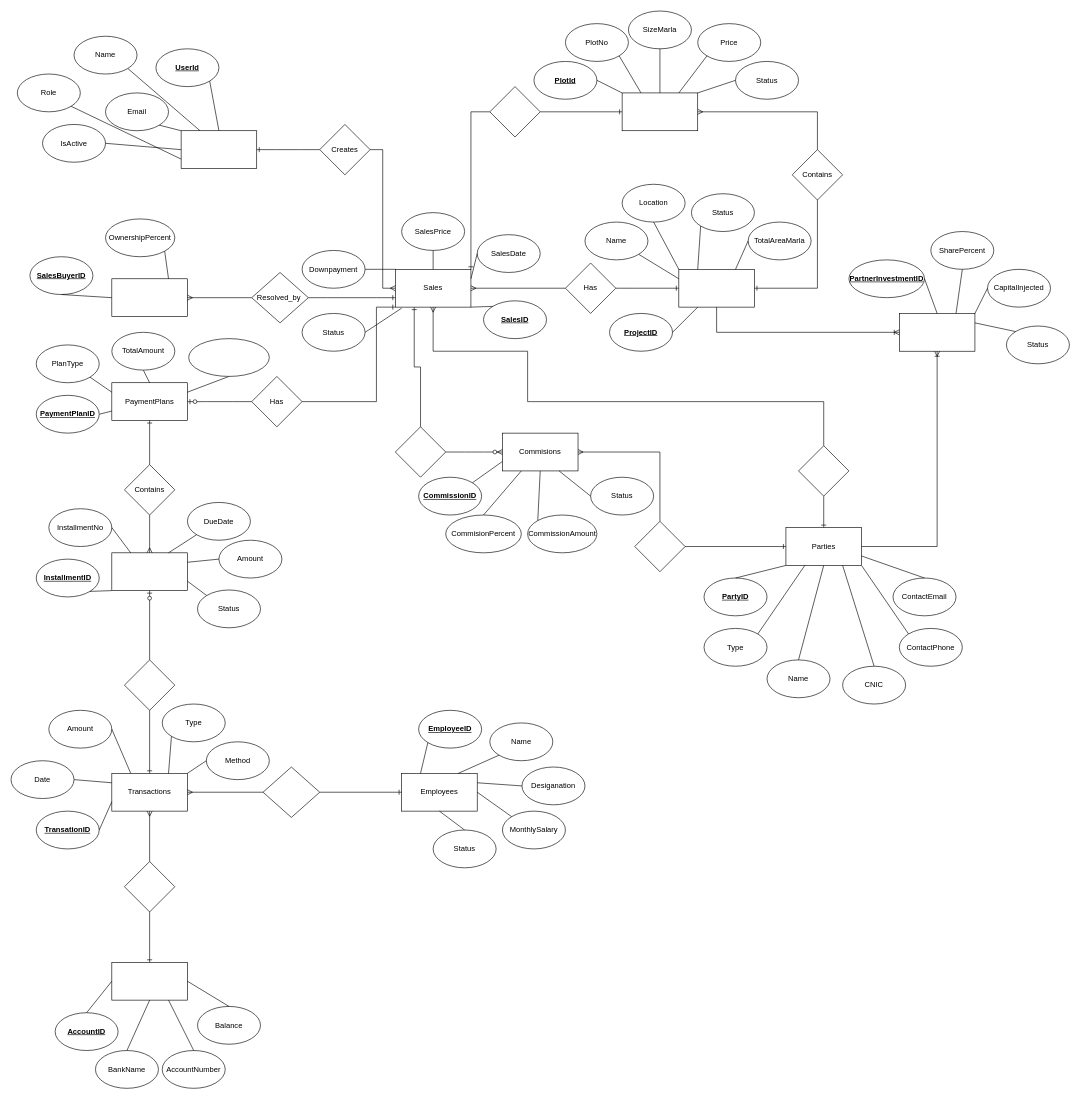
Some shapes in this 1080 by 1099 pixel diagram are drawn without their labels. The shapes that lost their labels are listed below. From the top down, each one's centre as x and y in pixels, then its label:
the point at 514,111: Sold_AS
the point at 659,111: Plots
the point at 218,149: Users
the point at 149,297: SaleBuyers
the point at 716,288: Projects
the point at 937,332: PartnerInvestments
the point at 228,357: NumberOfInstallmets
the point at 420,451: Generates
the point at 823,470: Involves
the point at 659,546: Earned_By
the point at 149,571: Installments
the point at 149,684: Paid_via
the point at 291,791: Recieves
the point at 149,886: Uses
the point at 149,981: BankAccounts
